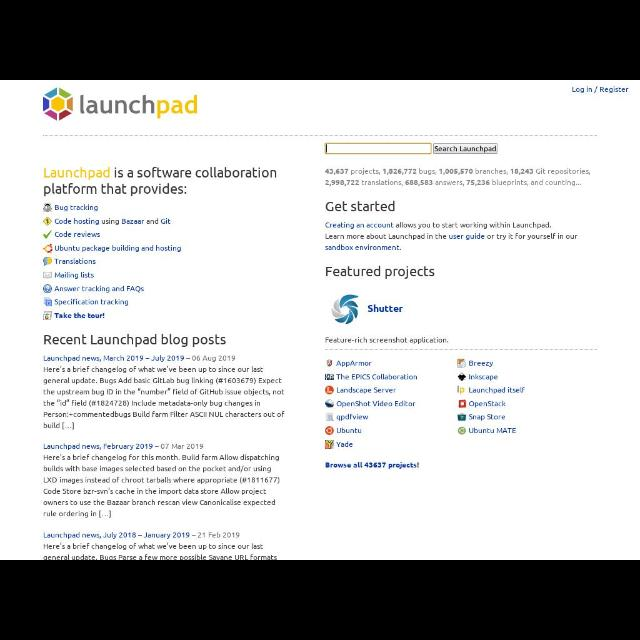image: (43, 88, 73, 120), (332, 294, 358, 324), (324, 439, 334, 448), (44, 243, 52, 254), (44, 256, 52, 266), (44, 284, 52, 294), (324, 386, 334, 394), (326, 412, 334, 422), (325, 426, 333, 436), (458, 358, 466, 368), (44, 312, 52, 321), (325, 399, 333, 408), (324, 374, 334, 381), (44, 204, 52, 212), (43, 217, 51, 225), (44, 230, 52, 238), (44, 298, 52, 306), (459, 400, 467, 408), (458, 374, 466, 381), (458, 414, 466, 421), (43, 272, 51, 278), (458, 386, 464, 394), (458, 428, 466, 434), (328, 359, 332, 366)
input: (326, 144, 432, 154)
text: (80, 95, 196, 119), (45, 167, 277, 179), (44, 334, 226, 348), (325, 168, 591, 176), (43, 388, 284, 396), (43, 454, 279, 462), (44, 465, 270, 473), (326, 180, 580, 187), (44, 488, 266, 496), (326, 233, 576, 240), (44, 365, 262, 373), (44, 184, 186, 196), (44, 499, 276, 506), (44, 399, 260, 406), (43, 412, 284, 418), (45, 378, 282, 384), (44, 478, 280, 484), (44, 554, 276, 560), (326, 222, 550, 228), (44, 544, 262, 550), (326, 267, 434, 279), (43, 532, 239, 538), (44, 356, 236, 362), (43, 444, 203, 451), (56, 218, 170, 226), (55, 245, 181, 252), (326, 462, 418, 470), (326, 338, 448, 344), (326, 201, 394, 211), (337, 400, 415, 408), (55, 298, 128, 306), (54, 286, 144, 292), (44, 510, 110, 518), (337, 374, 417, 380), (572, 86, 628, 94), (326, 244, 400, 250), (434, 146, 496, 152), (336, 387, 396, 393), (54, 204, 98, 212), (469, 388, 525, 394), (56, 313, 104, 319), (470, 427, 516, 433), (54, 232, 100, 238), (368, 304, 402, 312), (44, 422, 74, 430), (56, 258, 96, 264), (54, 272, 94, 278), (337, 414, 368, 421), (336, 361, 372, 367), (470, 401, 506, 407), (469, 414, 505, 420), (469, 360, 493, 368), (469, 374, 497, 380), (336, 428, 362, 434), (336, 441, 352, 447)
textbutton: (434, 144, 496, 152)
